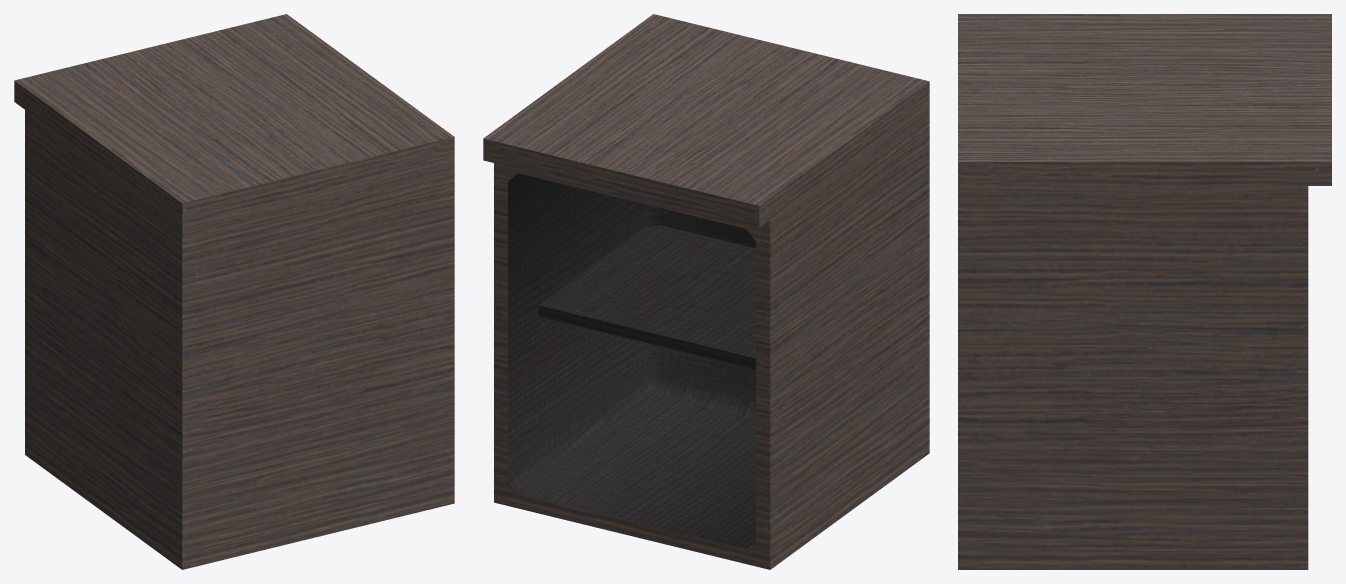
Rendered from desk.glb.
The picture shows the model from 3 angles, left to right: view 1: azimuth 30°, elevation 25°; view 2: azimuth 150°, elevation 25°; view 3: azimuth 270°, elevation 25°; orthographic projection. The views are drawn at different scales.
Parts seen in each view (by area): view 1: Refrigerator_04; view 2: Refrigerator_04; view 3: Refrigerator_04.
Part boxes in pixels (left/top/right/bottom): Refrigerator_04: left=14, top=14, right=454, bottom=569; Refrigerator_04: left=483, top=14, right=929, bottom=569; Refrigerator_04: left=958, top=14, right=1331, bottom=569.
Size of the model in its own units: 0.7363 by 0.9468 by 0.7861.
4 materials, 4 textured.
